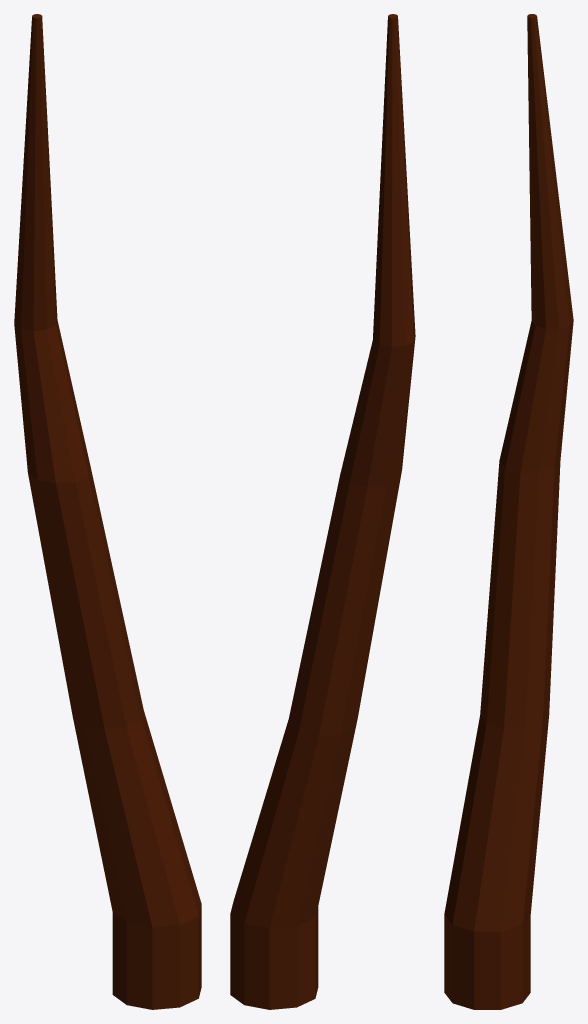
Rendered from Baton.glb.
The picture shows the model from 3 angles, left to right: view 1: azimuth 30°, elevation 25°; view 2: azimuth 210°, elevation 25°; view 3: azimuth 270°, elevation 25°; orthographic projection. The views are drawn at different scales.
Visible parts, largest first — view 1: Cylindre; view 2: Cylindre; view 3: Cylindre.
Boxes of the visible parts, x1,y1,x2,y2 form: Cylindre: (14,14,201,1009); Cylindre: (230,14,415,1009); Cylindre: (444,14,573,1009).
Size of the model in its own units: 3.62 by 23.78 by 2.99.
